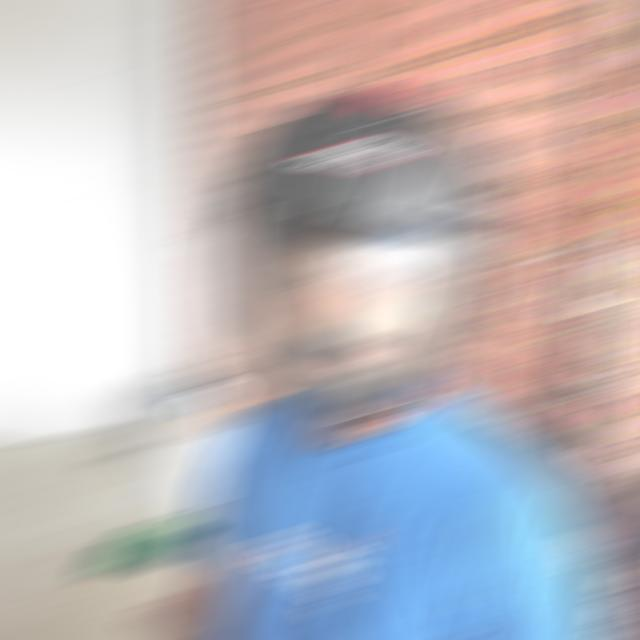With Helmet: (213, 86, 518, 416)
